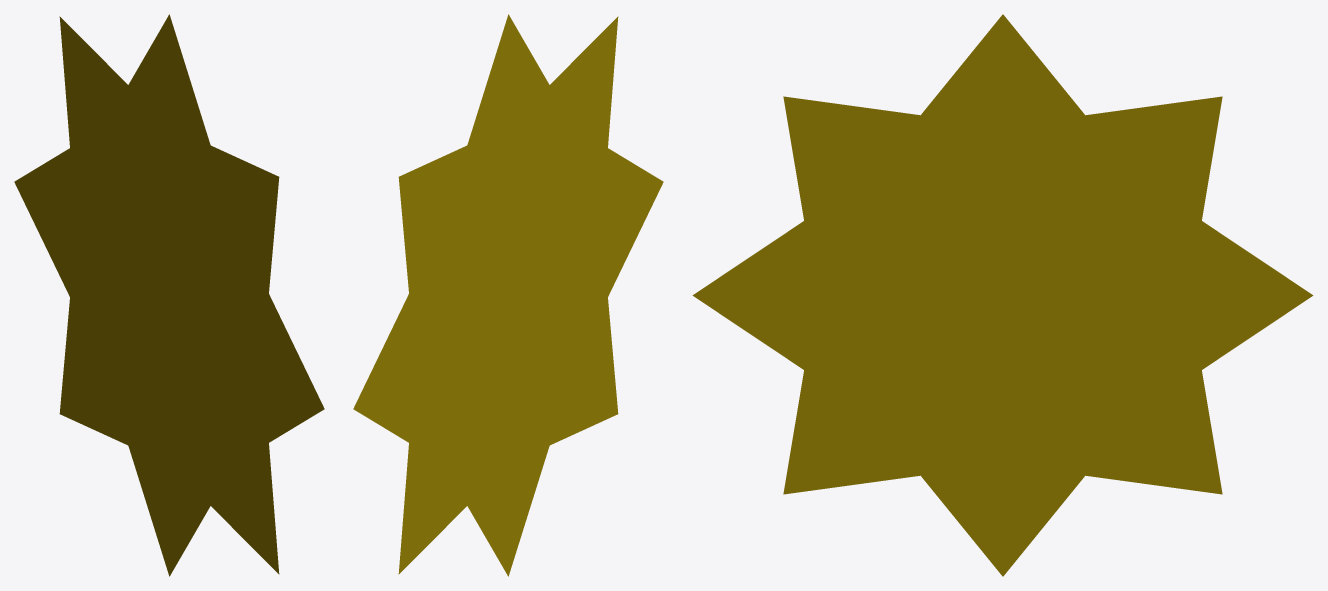
The model's file is StarModel.fbx.
3 renders of one model, left to right at view 1: azimuth 30°, elevation 25°; view 2: azimuth 150°, elevation 25°; view 3: azimuth 270°, elevation 25°, orthographic.
Parts seen in each view (by area): view 1: PathBlock; view 2: PathBlock; view 3: PathBlock.
Part boxes in pixels (x1,y1,x2,y2): PathBlock: [14, 14, 324, 576]; PathBlock: [353, 14, 663, 576]; PathBlock: [692, 14, 1313, 576].
Size of the model in its own units: 6.69e-07 by 5.61 by 5.61.
